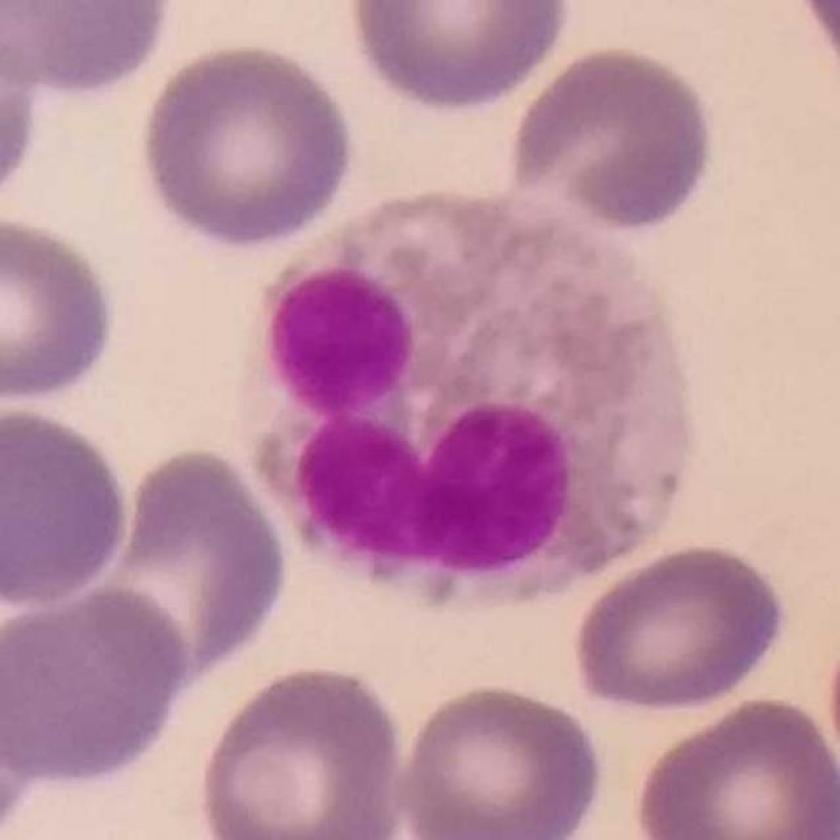eosinophil: (244, 185, 710, 614)
